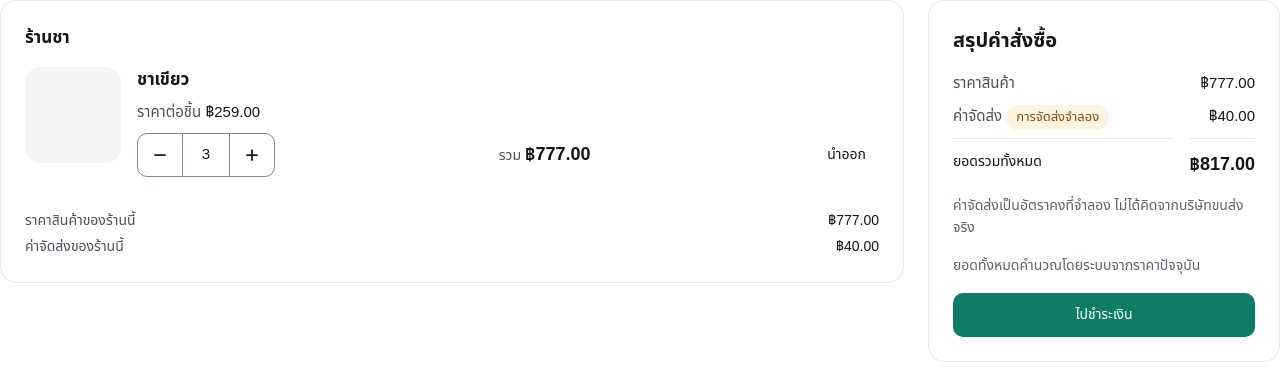
Test case: CartView › removes a line and disables its button while the request runs
The width and height of the screenshot is (1280, 379).
Click the button "นำออก" at (847, 155), box [814,137,879,173]
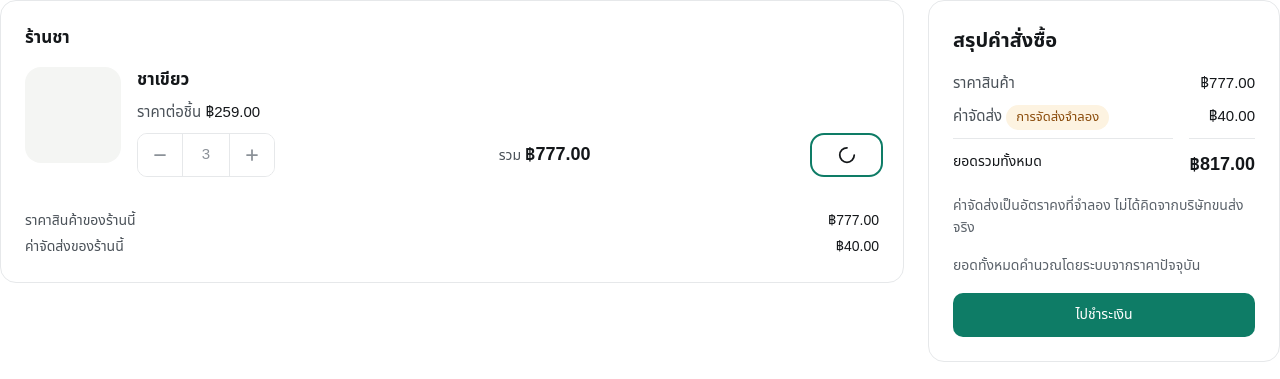
Click the 3rd button at (847, 155), box [814,137,879,173]
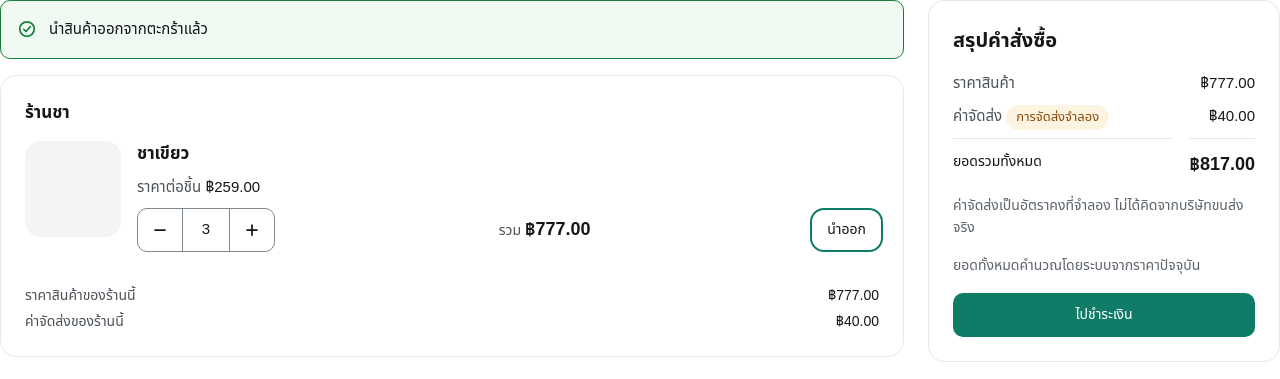
Expected: the text "นำสินค้าออกจากตะกร้าแล้ว" is shown, [49,20,208,37]
